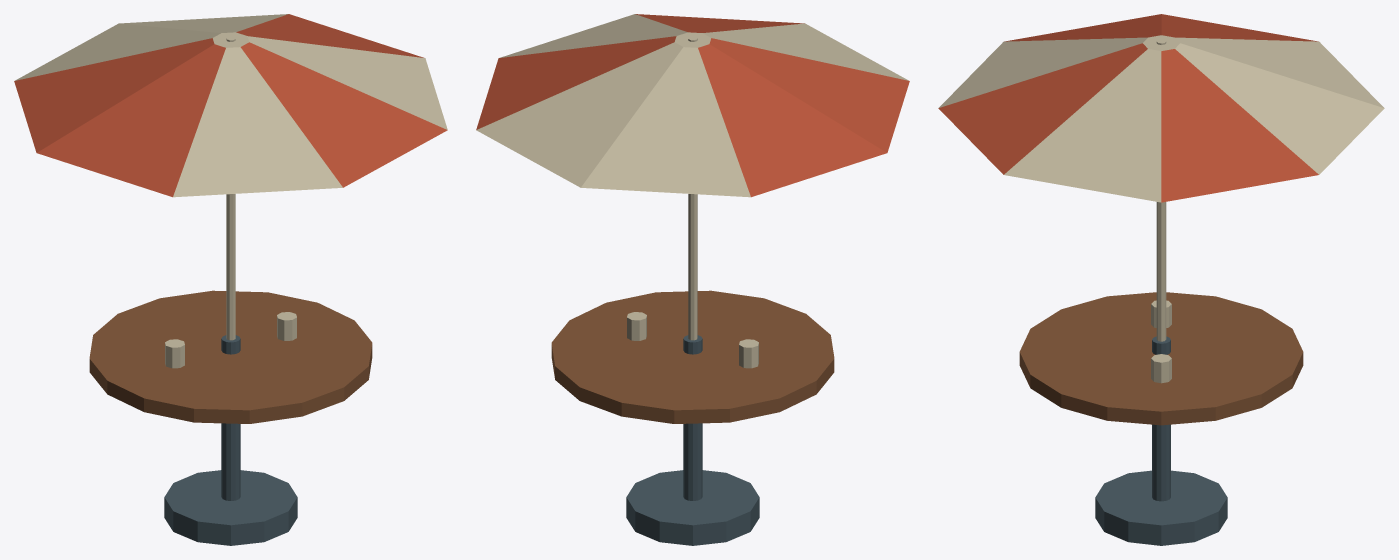
Rendered from cafe_parasol.glb.
The picture shows the model from 3 angles, left to right: view 1: azimuth 30°, elevation 25°; view 2: azimuth 150°, elevation 25°; view 3: azimuth 270°, elevation 25°; orthographic projection.
Parts seen in each view (by area): view 1: cafe_parasol; view 2: cafe_parasol; view 3: cafe_parasol.
Boxes of the visible parts, x1=… form: cafe_parasol: x1=14, y1=14, x2=447, y2=545; cafe_parasol: x1=476, y1=14, x2=909, y2=545; cafe_parasol: x1=938, y1=14, x2=1384, y2=545.
Size of the model in its own units: 2.36 by 2.8 by 2.36.
